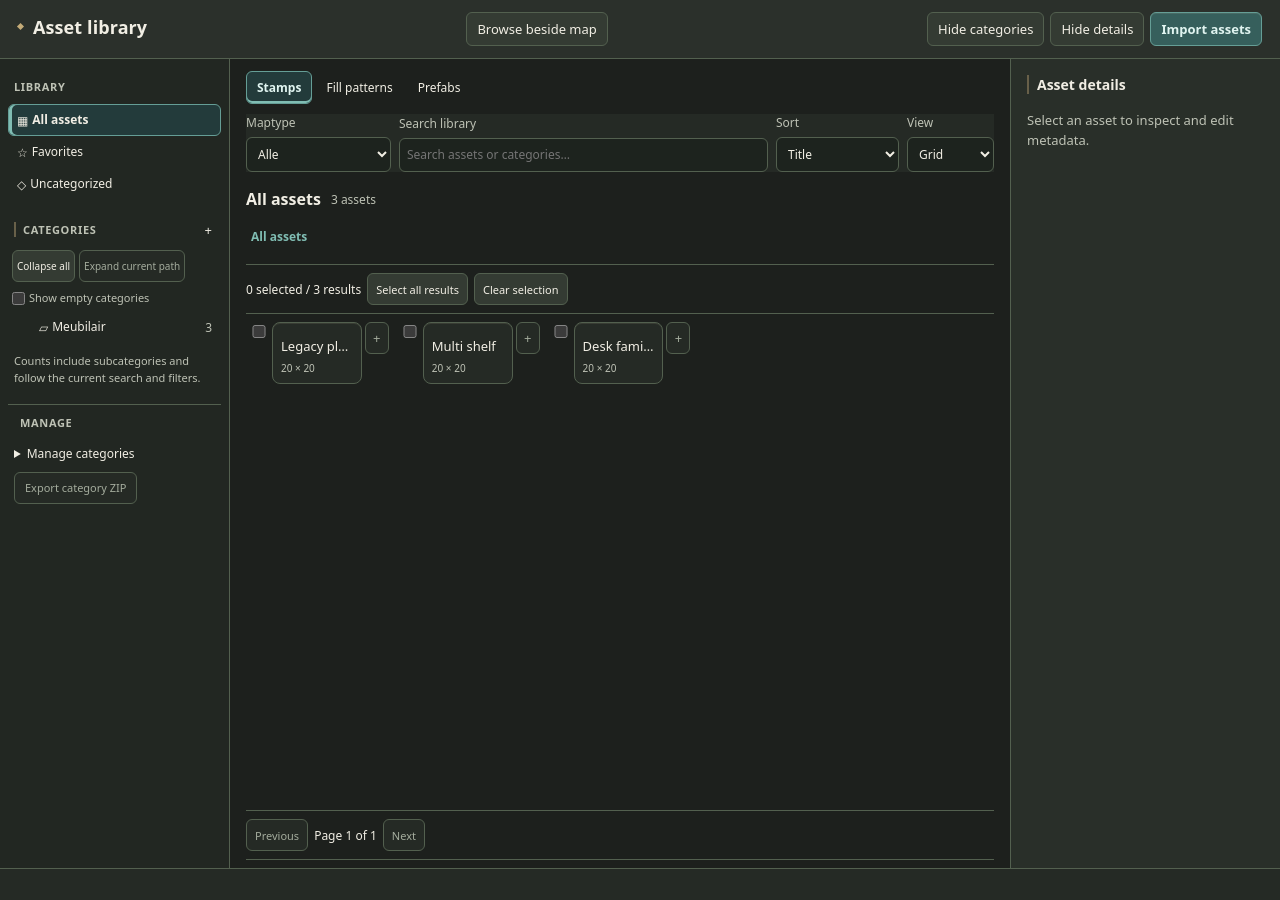
Scenario: keeps a permanent canonical filter, hides Collections and duplicate category chips, and clears hidden bulk selection
Expected: the text "0 selected / 3 results" is shown, [246, 280, 361, 298]
Expected: the dropdown named "Maptype filter" shows "Alle", [246, 137, 391, 172]
Click the checkbox named "Select Multi shelf" at {"x": 410, "y": 332}, box [403, 325, 417, 338]
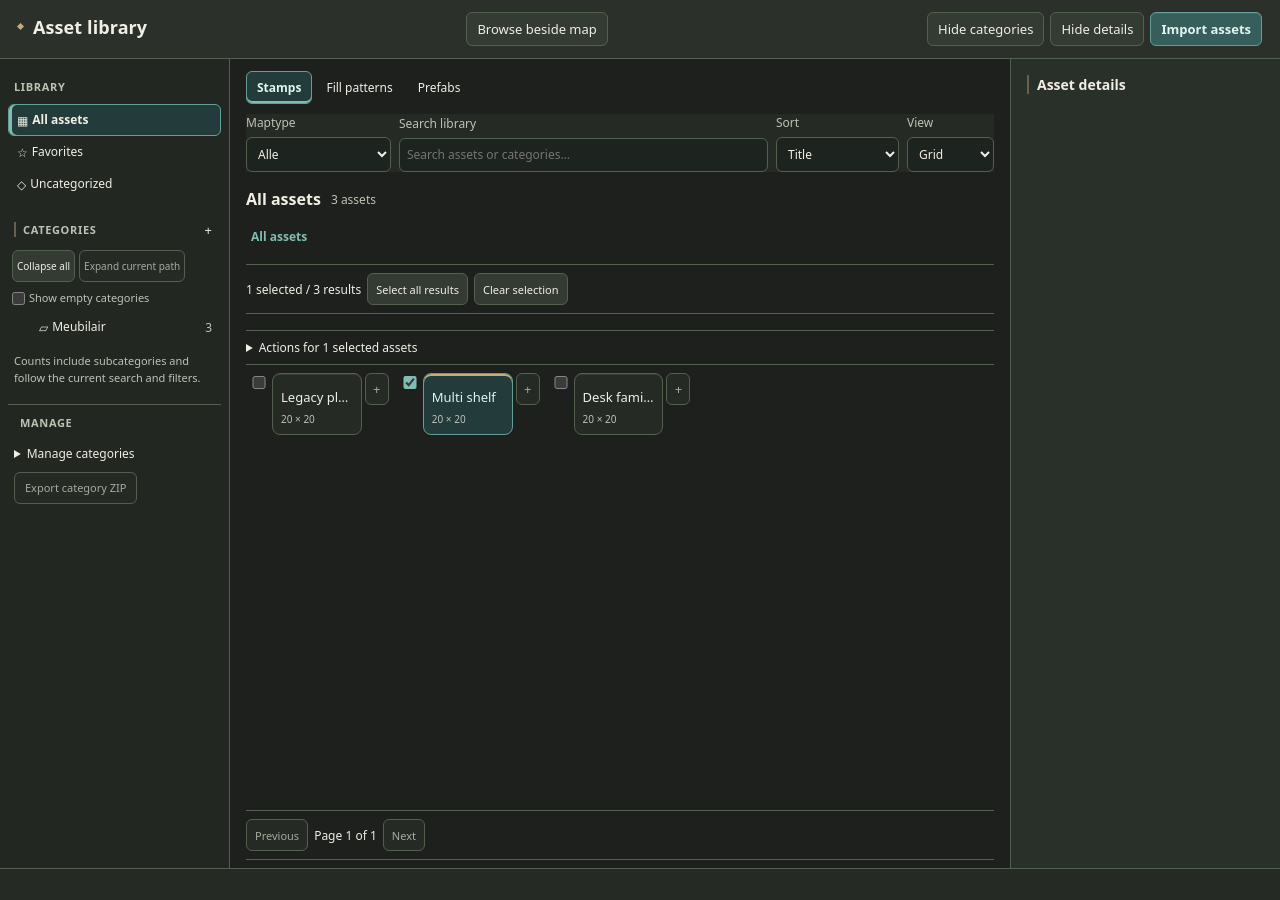
Expected: the text "1 selected / 3 results" is shown, [246, 280, 361, 298]
Select "Regional map" in the dropdown named "Maptype filter" at {"x": 318, "y": 154}, box [246, 137, 391, 172]
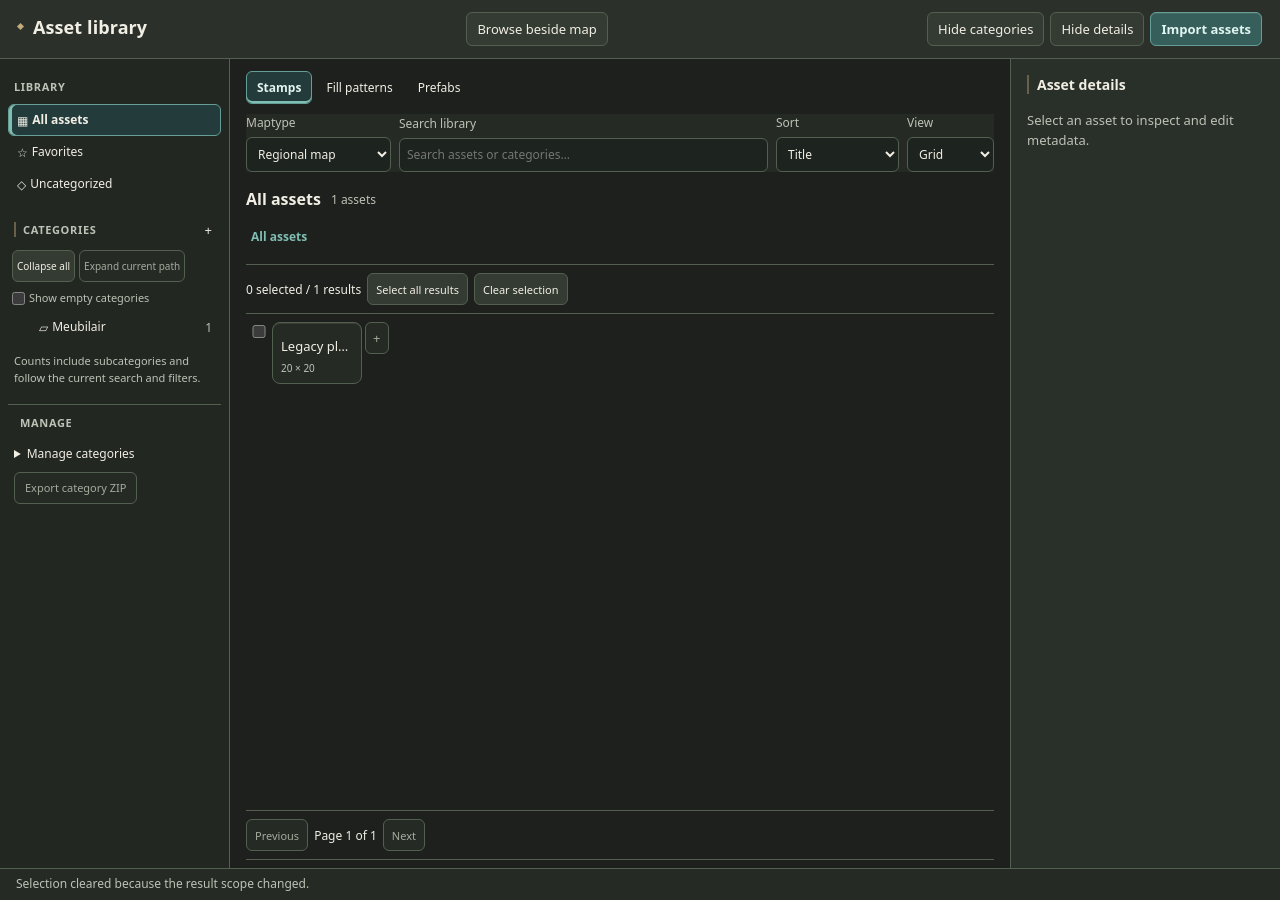
Expected: the text "0 selected / 1 results" is shown, [246, 280, 361, 298]
Expected: the heading "Actions for 1 selected assets" is gone
Expected: the list item with aria-label "Meubilair, 1 assets" is shown, [39, 318, 212, 336]
Type "shelf" into the search field at {"x": 584, "y": 155}, box [399, 138, 768, 172]
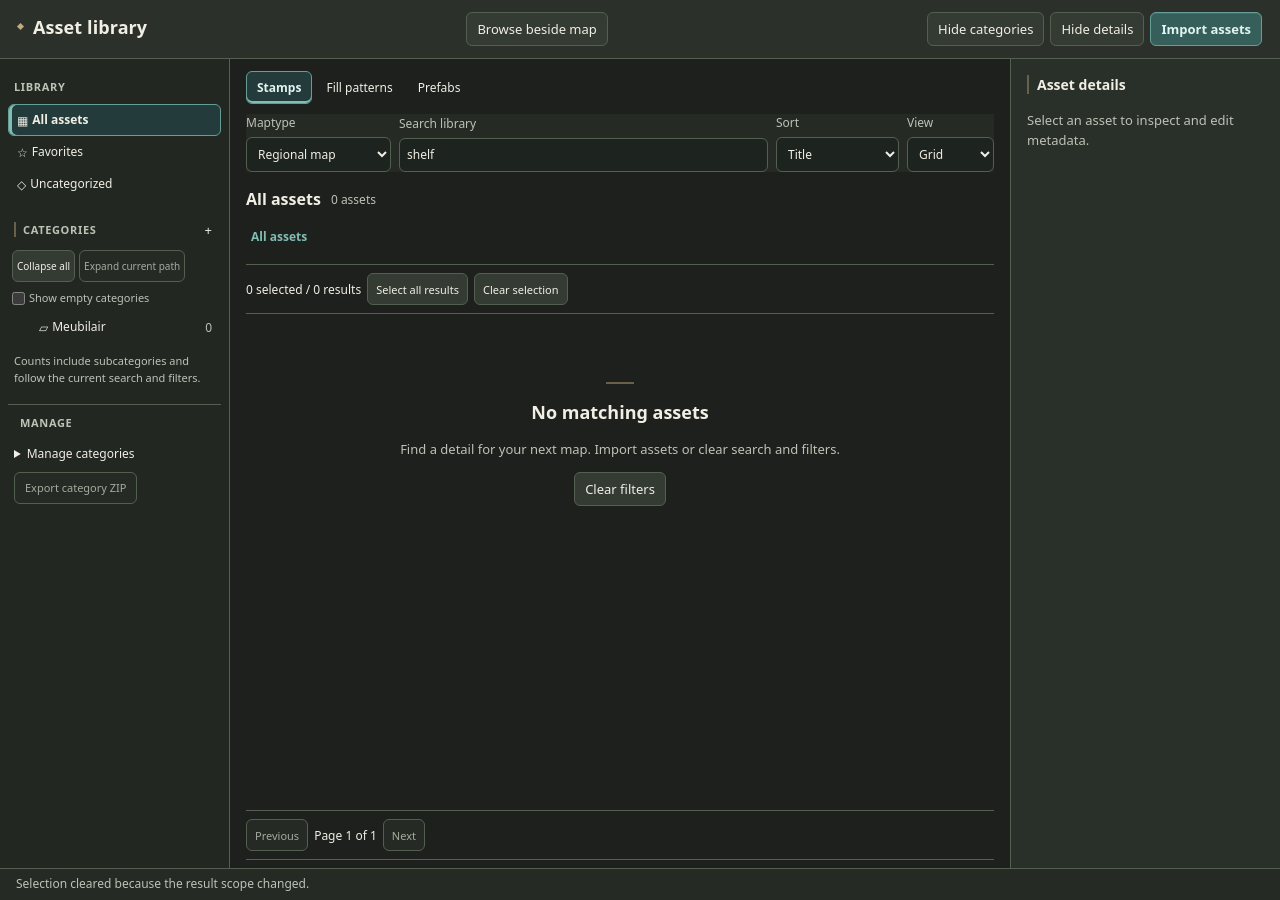
Expected: the text "0 selected / 0 results" is shown, [246, 280, 361, 298]
Expected: the heading "No matching assets" is shown, [531, 400, 709, 424]
Select "World map" in the dropdown named "Maptype filter" at {"x": 318, "y": 154}, box [246, 137, 391, 172]
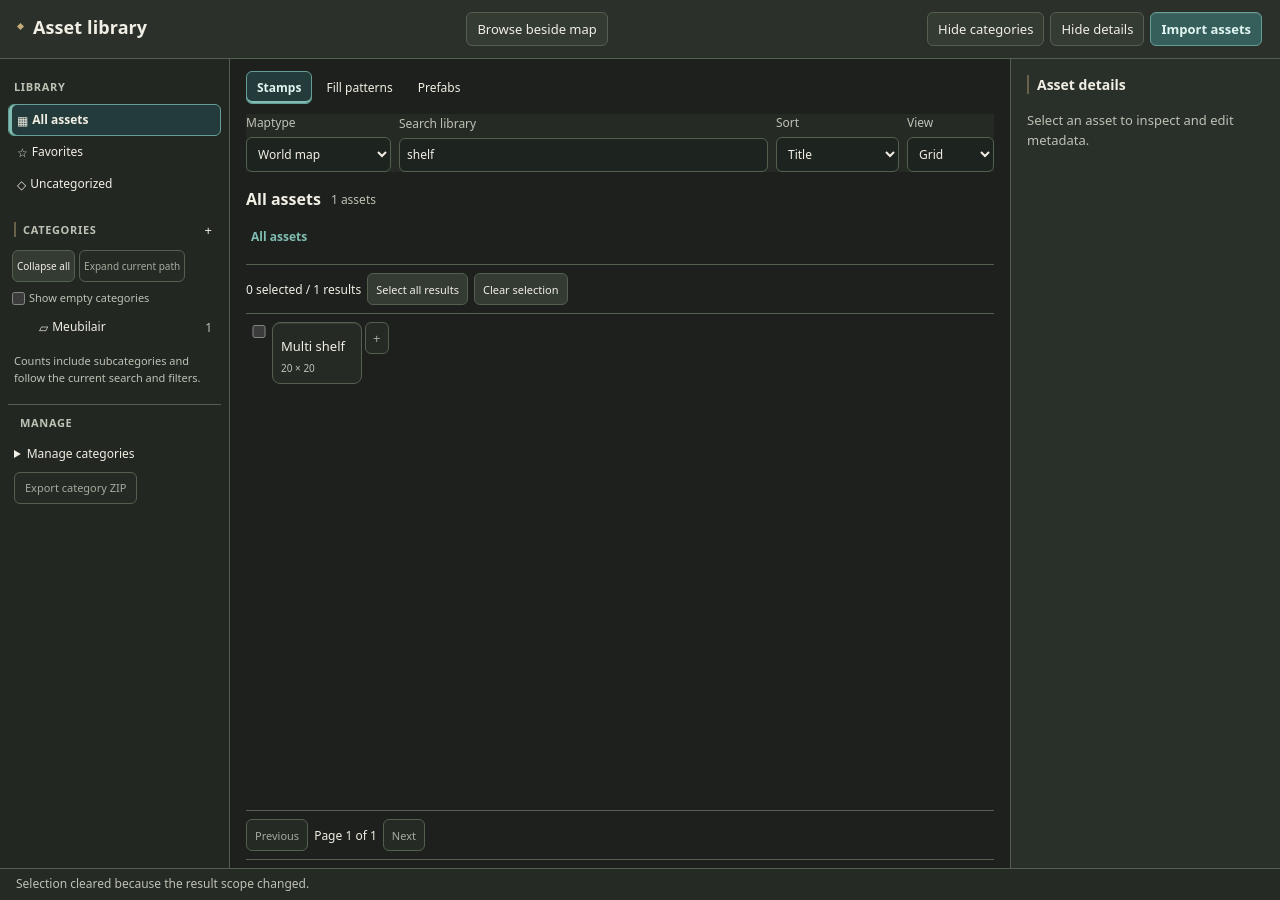
Expected: the text "0 selected / 1 results" is shown, [246, 280, 361, 298]
Expected: the checkbox named "Select Multi shelf" is shown, [252, 325, 266, 338]
